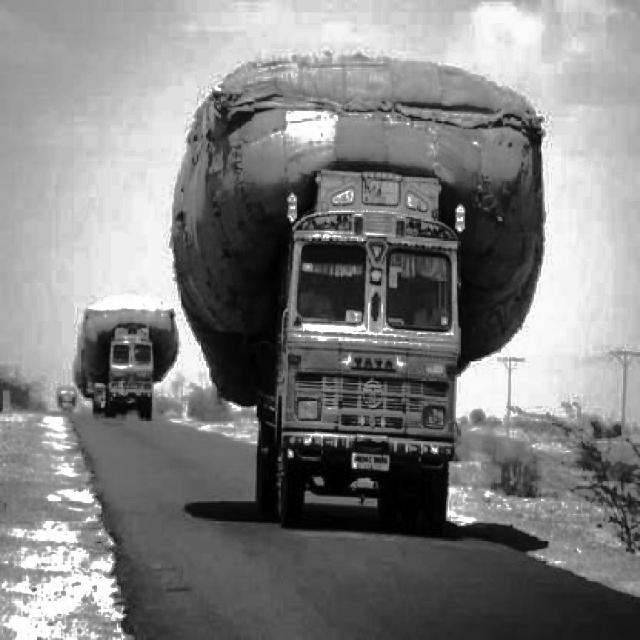HCV: (251, 146, 480, 529), (46, 302, 177, 416)
